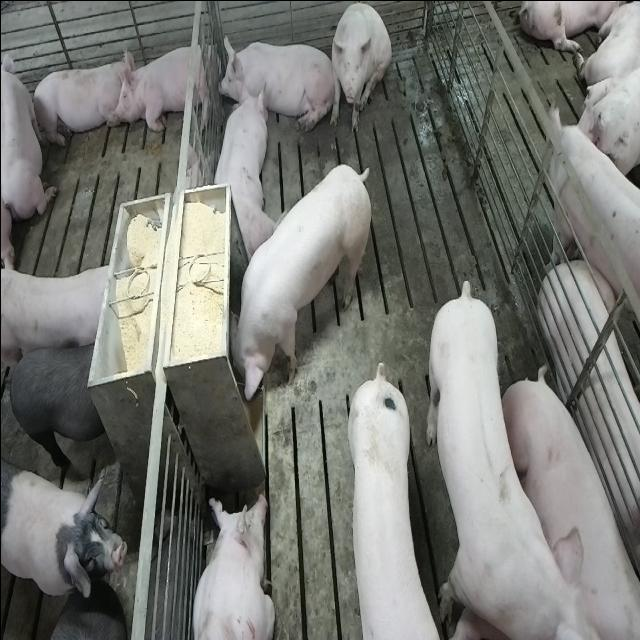Feeding: (229, 162, 376, 404)
Lateral_lying: (498, 370, 640, 639), (538, 259, 640, 596)
Sitting: (328, 2, 391, 134)
Standing: (429, 278, 590, 638), (345, 370, 437, 640), (547, 98, 640, 331), (2, 467, 128, 602), (3, 336, 108, 472), (3, 257, 119, 367), (34, 609, 126, 640)
Sternal_lying: (190, 487, 274, 640), (208, 82, 270, 264), (218, 31, 330, 131), (2, 38, 56, 222), (29, 51, 129, 149), (116, 36, 214, 135)
